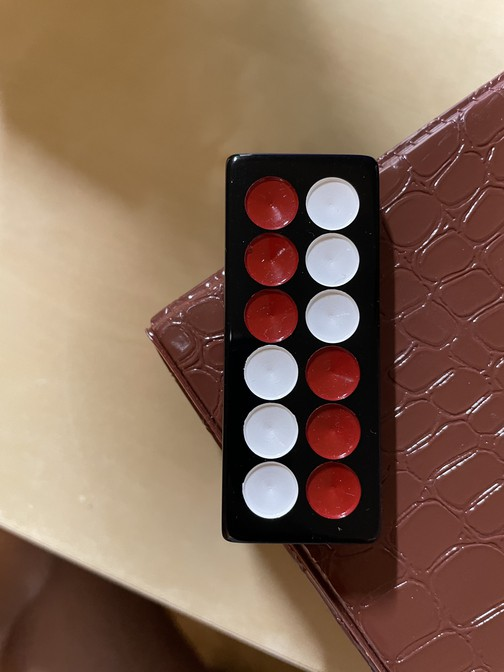heaven: (221, 152, 386, 545)
